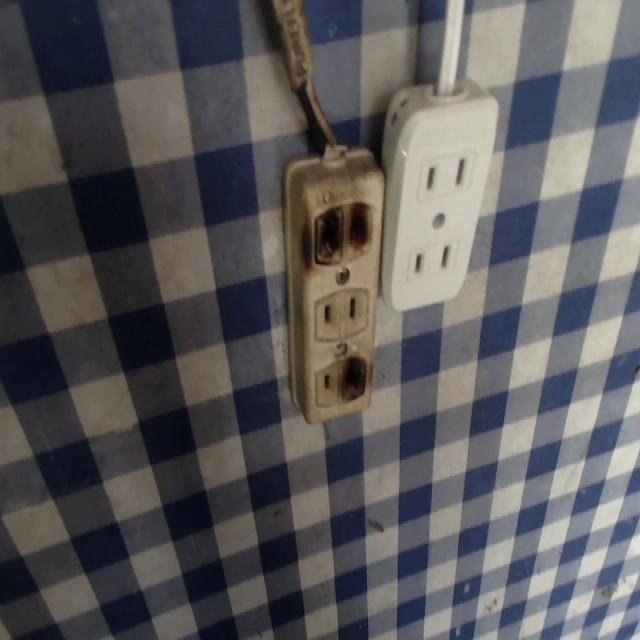-: (312, 201, 372, 263), (337, 357, 370, 403)
